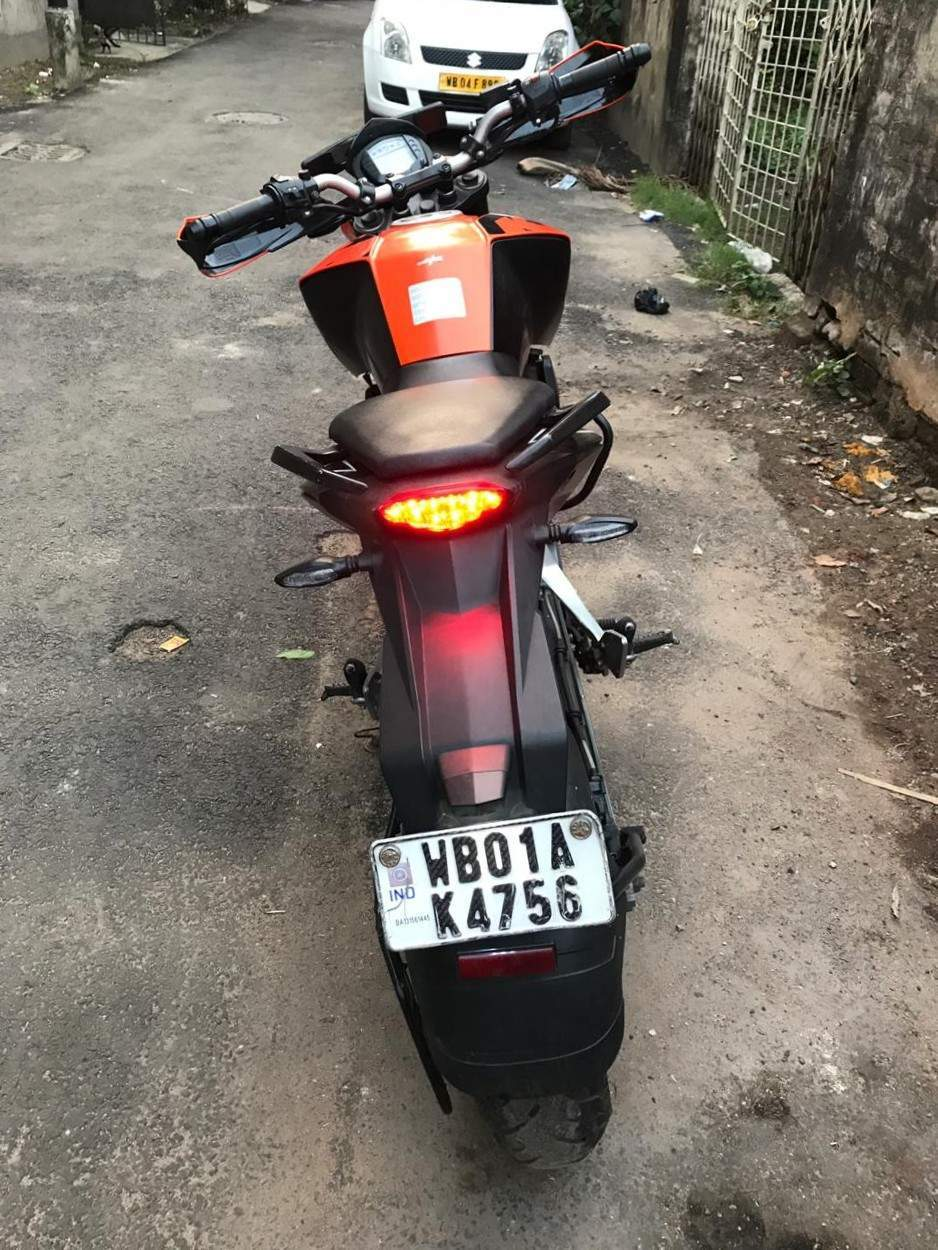doublelinenumberplate: (370, 807, 617, 955)
